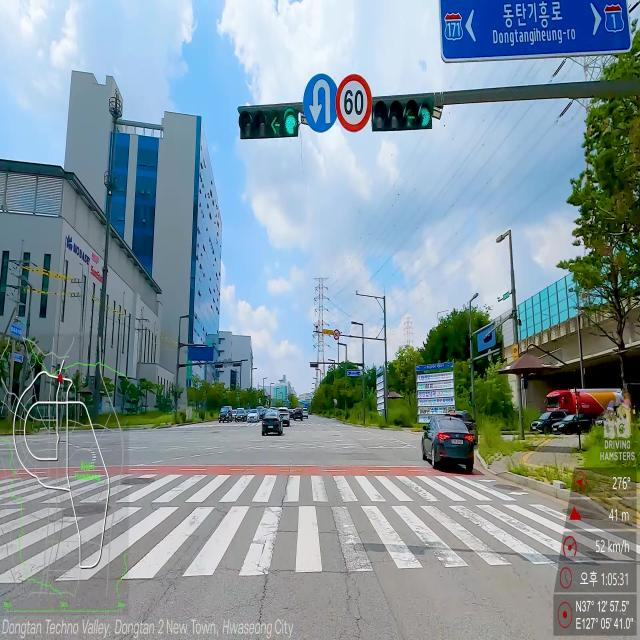Green Light: (282, 107, 297, 136), (418, 102, 432, 128)
